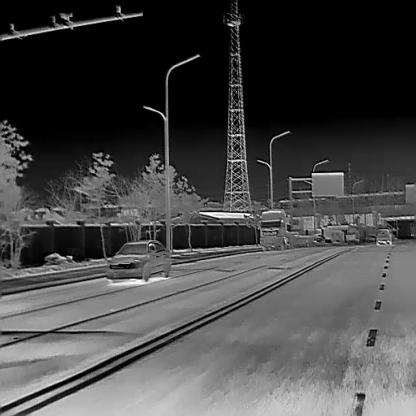car: (104, 238, 170, 282), (375, 228, 392, 246), (312, 234, 326, 245), (363, 233, 376, 241)
truck: (257, 209, 312, 251), (345, 226, 360, 243)
